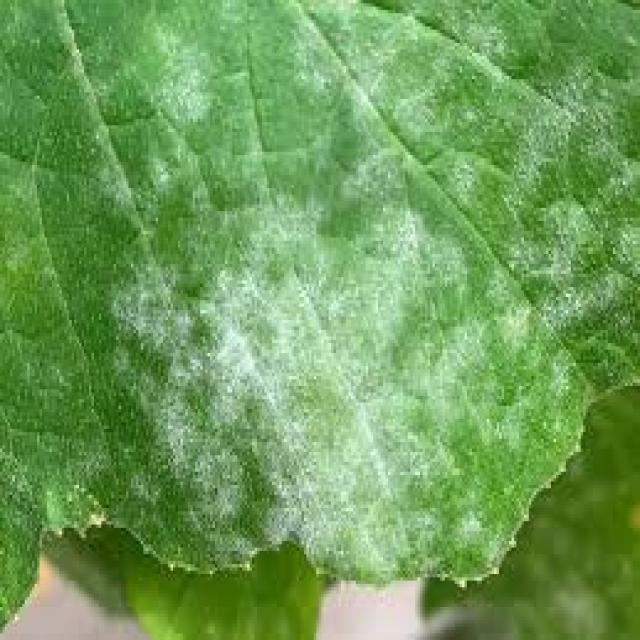powdery-mildew: (160, 177, 478, 554)
